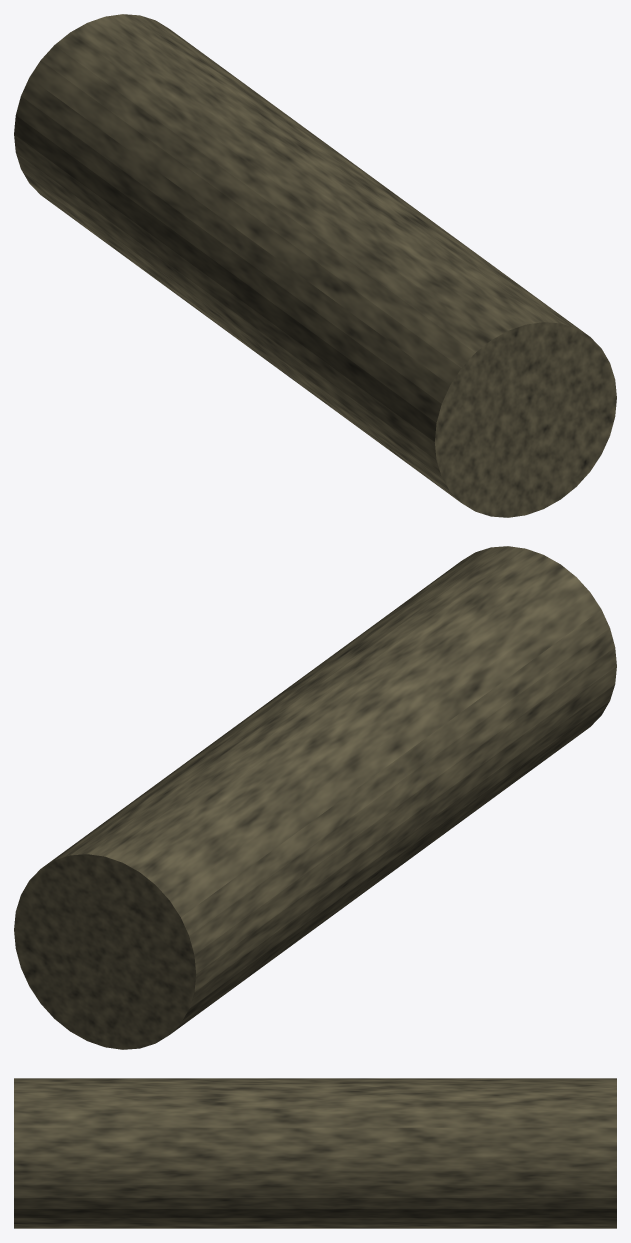
File: snakebody.obj
3 renders of one model, top to bottom at view 1: azimuth 30°, elevation 25°; view 2: azimuth 150°, elevation 25°; view 3: azimuth 270°, elevation 25°, orthographic. The views are drawn at different scales.
Parts seen in each view (by area): view 1: Cylinder; view 2: Cylinder; view 3: Cylinder.
Boxes of the visible parts, x1,y1,x2,y2 form: Cylinder: (14,14,616,517); Cylinder: (14,546,616,1049); Cylinder: (14,1078,616,1228).
Bounding box in the file's own units: 0.5 × 0.5 × 2.
Materials: 1 (1 with a texture image).
